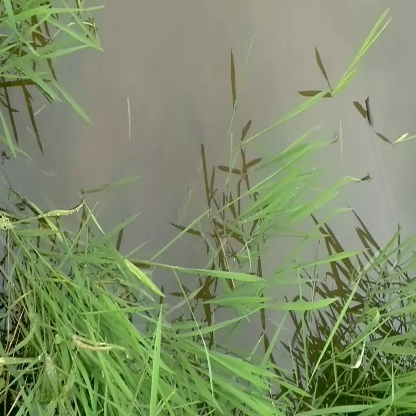grass: (234, 127, 349, 246)
